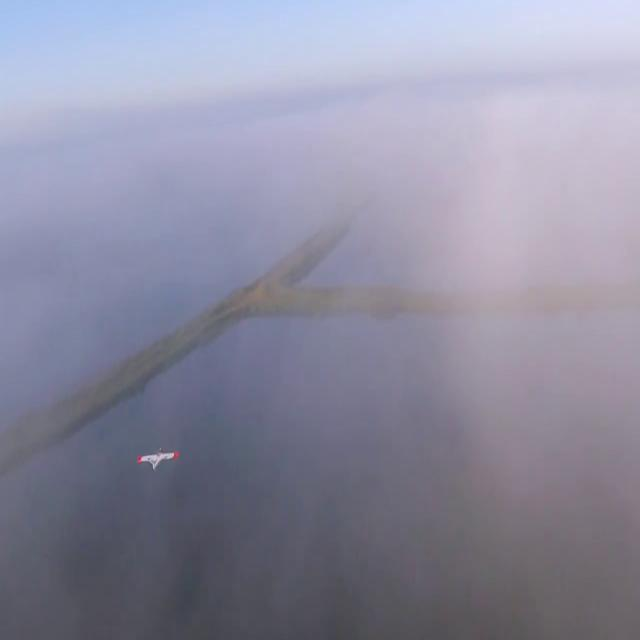iha: (136, 438, 180, 468)
